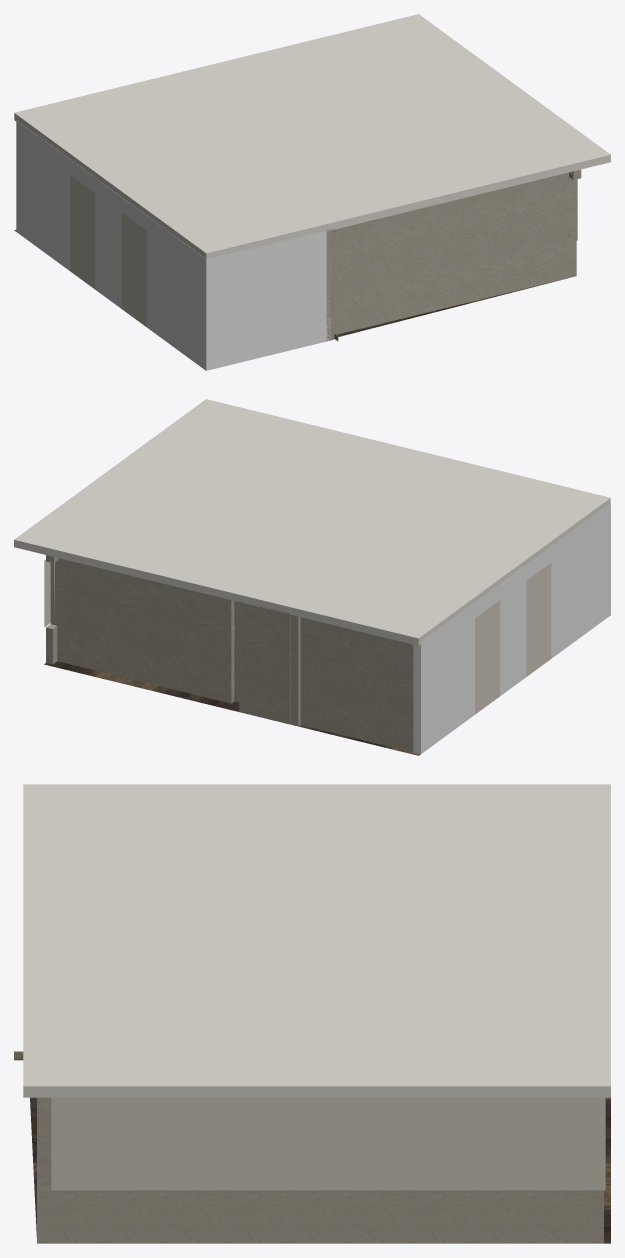
The model's file is classroom-realistic.glb.
The picture shows the model from 3 angles, top to bottom: view 1: azimuth 30°, elevation 25°; view 2: azimuth 150°, elevation 25°; view 3: azimuth 270°, elevation 25°; orthographic projection. The views are drawn at different scales.
Visible parts, largest first — view 1: door_window.001; view 2: door_window.001; view 3: door_window.001.
Boxes of the visible parts, <box> form: door_window.001: <box>14,14,610,370</box>; door_window.001: <box>14,399,610,755</box>; door_window.001: <box>14,784,610,1243</box>.
Size of the model in its own units: 16.78 by 4.65 by 14.02.
Materials: 32 (16 with a texture image).
